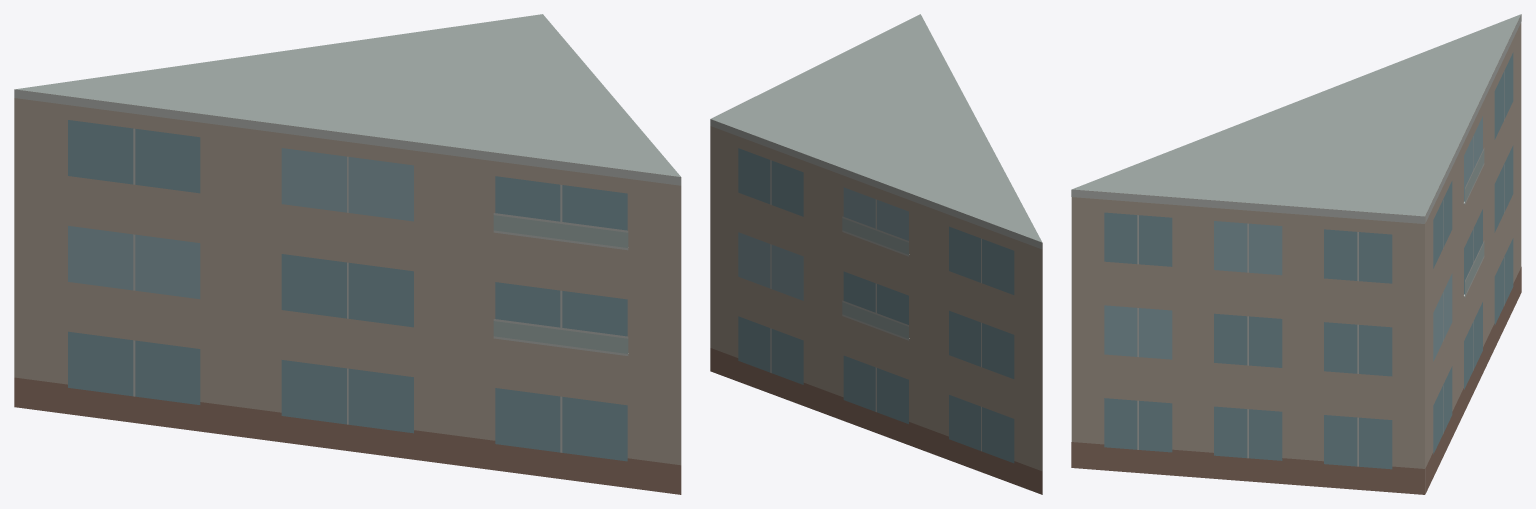
File: survey-upis-32763563.glb
3 views of the same model, side by side, from view 1: azimuth 30°, elevation 25°; view 2: azimuth 150°, elevation 25°; view 3: azimuth 270°, elevation 25° (orthographic). The views are drawn at different scales.
Parts seen in each view (by area): view 1: survey-upis-32763563.tmp; view 2: survey-upis-32763563.tmp; view 3: survey-upis-32763563.tmp.
Boxes of the visible parts, left/top/right/bottom form: survey-upis-32763563.tmp: left=14, top=14, right=681, bottom=494; survey-upis-32763563.tmp: left=710, top=14, right=1042, bottom=494; survey-upis-32763563.tmp: left=1071, top=14, right=1521, bottom=494.
Bounding box in the file's own units: 13.89 × 8.9 × 13.05.
